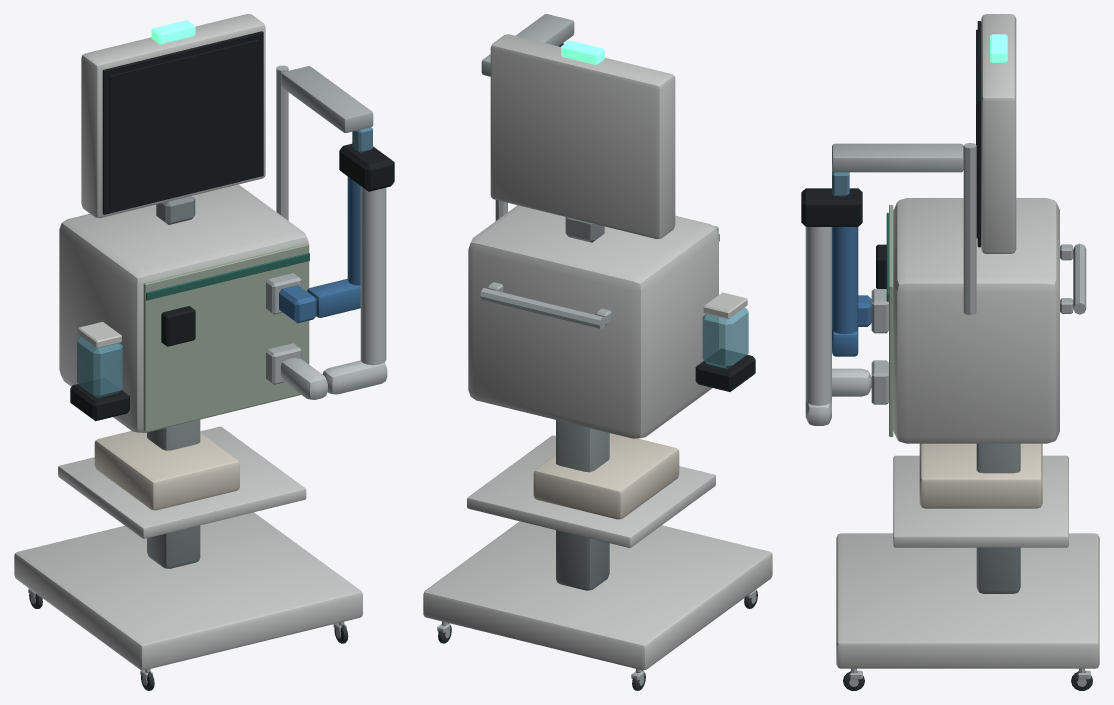
File: ventilator.glb
3 views of the same model, side by side, from view 1: azimuth 30°, elevation 25°; view 2: azimuth 150°, elevation 25°; view 3: azimuth 270°, elevation 25° (orthographic). The views are drawn at different scales.
Parts seen in each view (by area): view 1: ventilator; view 2: ventilator; view 3: ventilator.
Boxes of the visible parts, left/top/right/bottom form: ventilator: left=14, top=14, right=394, bottom=690; ventilator: left=423, top=14, right=772, bottom=690; ventilator: left=801, top=14, right=1099, bottom=690.
Size of the model in its own units: 0.68 by 1.51 by 0.68.
